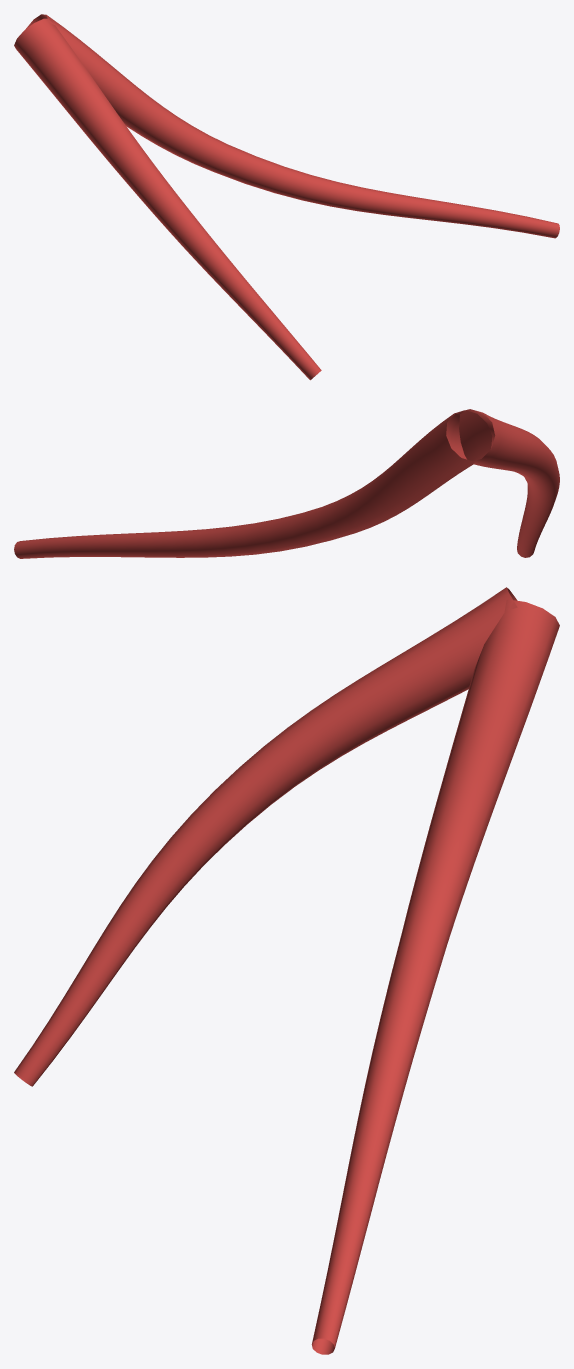
The picture shows the model from 3 angles, top to bottom: view 1: azimuth 30°, elevation 25°; view 2: azimuth 150°, elevation 25°; view 3: azimuth 270°, elevation 25°; orthographic projection. The views are drawn at different scales.
Visible parts, largest first — view 1: 右侧下牙槽动脉颏支; view 2: 右侧下牙槽动脉颏支; view 3: 右侧下牙槽动脉颏支.
Boxes of the visible parts, bbox=[...] form: 右侧下牙槽动脉颏支: bbox=[14, 14, 559, 380]; 右侧下牙槽动脉颏支: bbox=[14, 409, 559, 558]; 右侧下牙槽动脉颏支: bbox=[14, 587, 559, 1354].
Bounding box in the file's own units: 0.0104 × 0.00591 × 0.0068.
